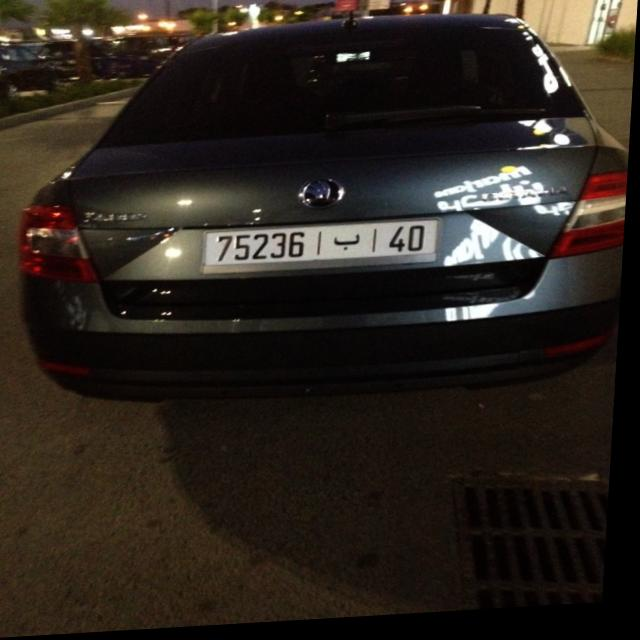License-Plate: (205, 224, 443, 277)
